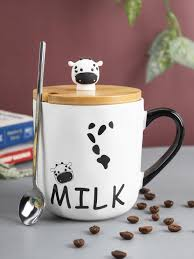mug: (20, 73, 186, 220)
